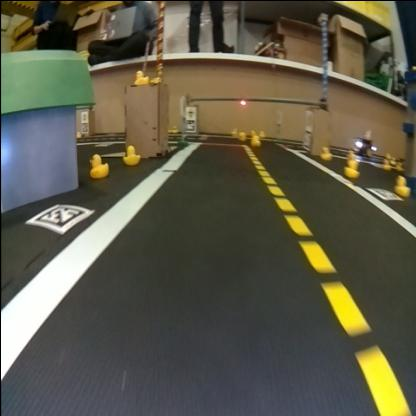Duckie: (89, 152, 107, 176), (395, 173, 410, 195), (124, 145, 140, 164), (344, 158, 360, 177), (134, 68, 149, 82), (320, 144, 331, 158), (250, 134, 260, 146), (382, 159, 390, 169), (238, 131, 244, 139)
Duckiebot: (352, 136, 376, 155)
QR code: (25, 202, 91, 230), (366, 186, 402, 198), (186, 118, 195, 128)
Traffic light: (240, 97, 246, 105)
